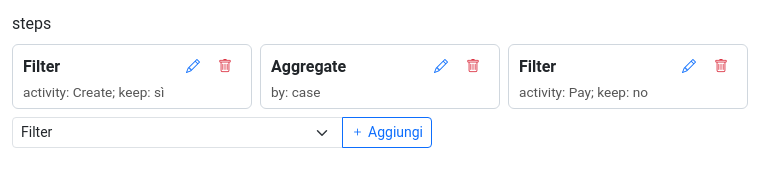
Test: DynamicFormComponent › deleting a tile removes the element from the value (C28)
Click the button with class "soup-remove-item" next to "Aggregate" at (473, 66), box [457,51,489,82]
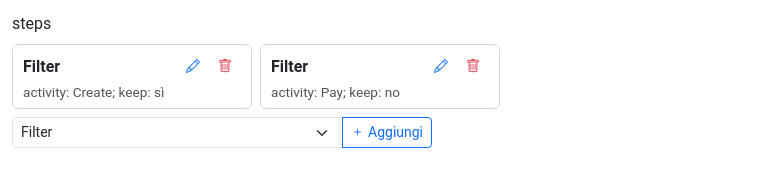
expect the number of elements with class "soup-tile" is 2: met, box [12,44,252,109]; [260,44,500,109]
Click the 1st button with class "soup-remove-item" at (225, 66), box [209,51,241,82]
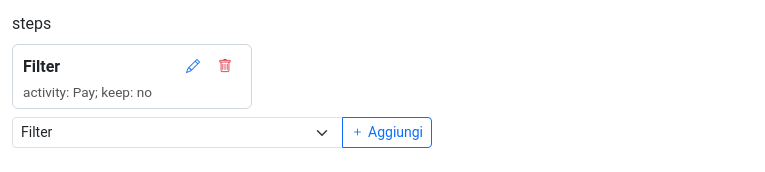
Click the button with class "soup-remove-item" at (225, 66), box [209,51,241,82]
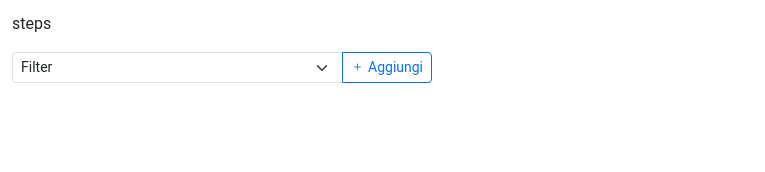
expect no elements with class "soup-tile" are shown: met
